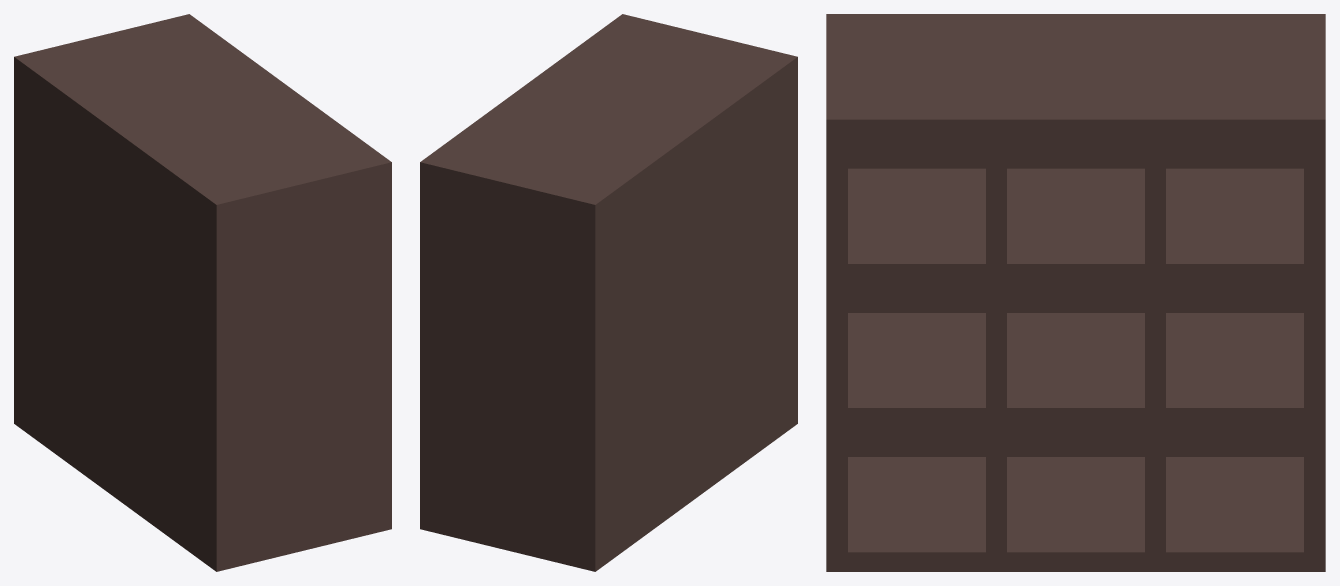
File: Cubby V2 EXPORT.fbx
The picture shows the model from 3 angles, left to right: view 1: azimuth 30°, elevation 25°; view 2: azimuth 150°, elevation 25°; view 3: azimuth 270°, elevation 25°; orthographic projection. The views are drawn at different scales.
Parts seen in each view (by area): view 1: Cube; view 2: Cube; view 3: Cube.
Part boxes in pixels (left/top/right/bottom): Cube: left=14, top=14, right=391, bottom=571; Cube: left=420, top=14, right=797, bottom=571; Cube: left=826, top=14, right=1325, bottom=571.
Bounding box in the file's own units: 236 × 471 × 471.
